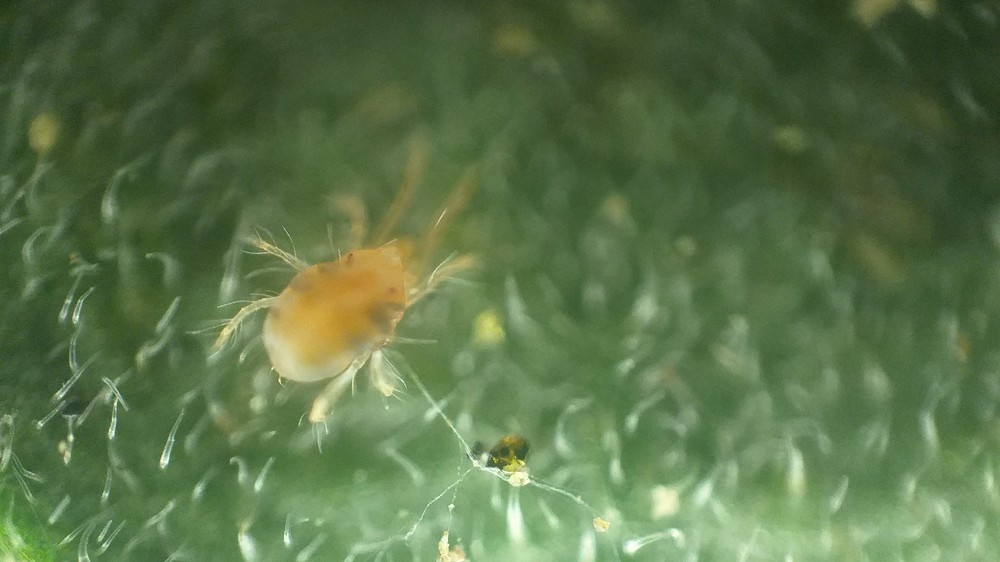Aracnido Rojo: (195, 137, 523, 442)
